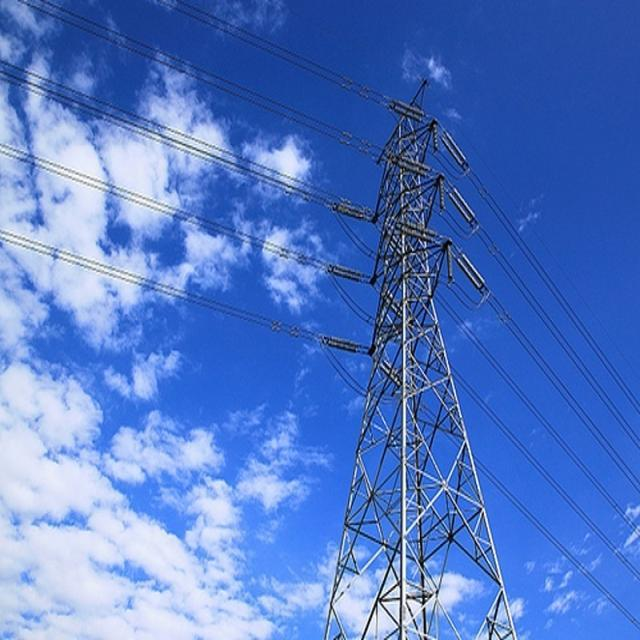non-critical vegetation: (336, 109, 514, 618)
